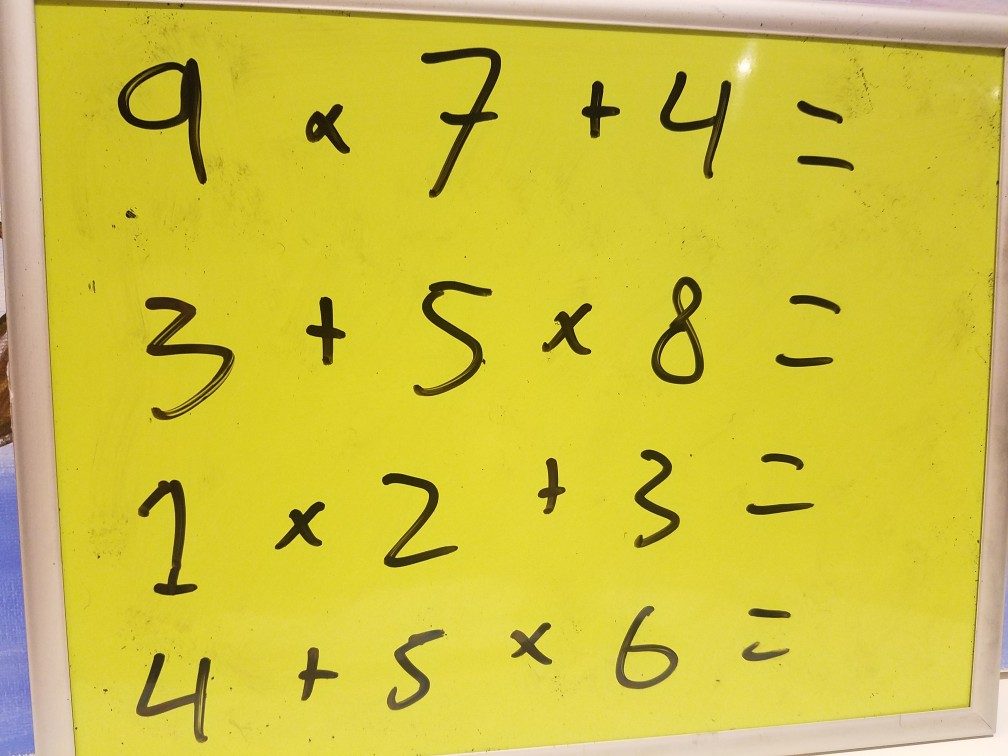+: (299, 276, 354, 382), (571, 73, 623, 148), (522, 450, 573, 520), (291, 636, 336, 713)
1: (129, 471, 212, 609)
2: (370, 459, 465, 576)
3: (139, 292, 240, 438), (617, 439, 689, 564)
4: (129, 630, 226, 747), (658, 59, 734, 188)
5: (403, 270, 503, 412), (373, 612, 448, 720)
6: (603, 588, 693, 701)
7: (405, 32, 509, 199)
8: (640, 259, 717, 391)
9: (109, 45, 227, 195)
=: (729, 441, 827, 534), (721, 588, 823, 677), (763, 276, 846, 380), (788, 88, 856, 181)
x: (293, 88, 354, 169), (541, 299, 601, 371), (277, 483, 328, 553), (497, 618, 554, 670)
